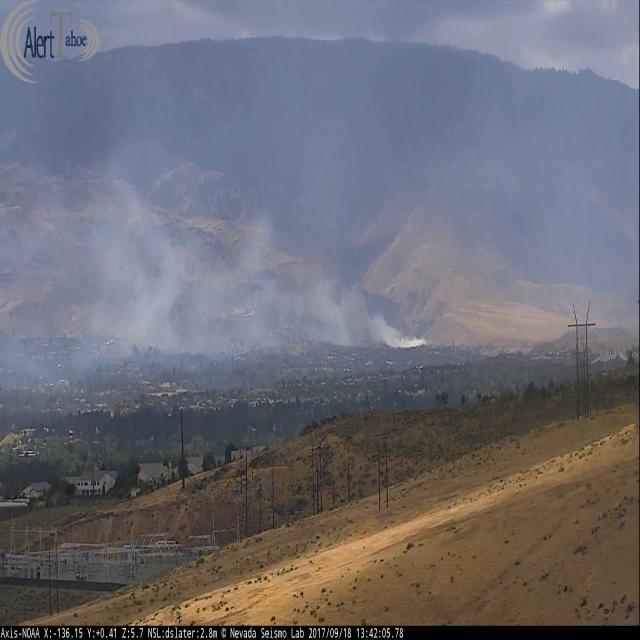smoke: (0, 120, 429, 386)
